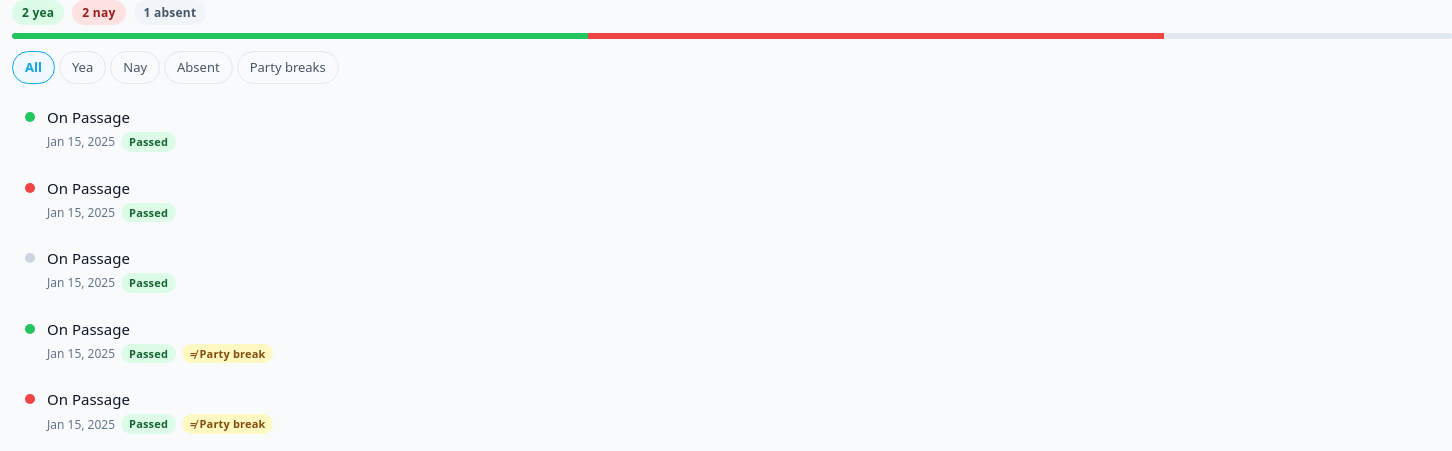
Test: VoteList — filter logic › shows only nay votes when the "Nay" filter is active
Click the tab "Nay" at {"x": 135, "y": 68}, box [110,51,160,84]
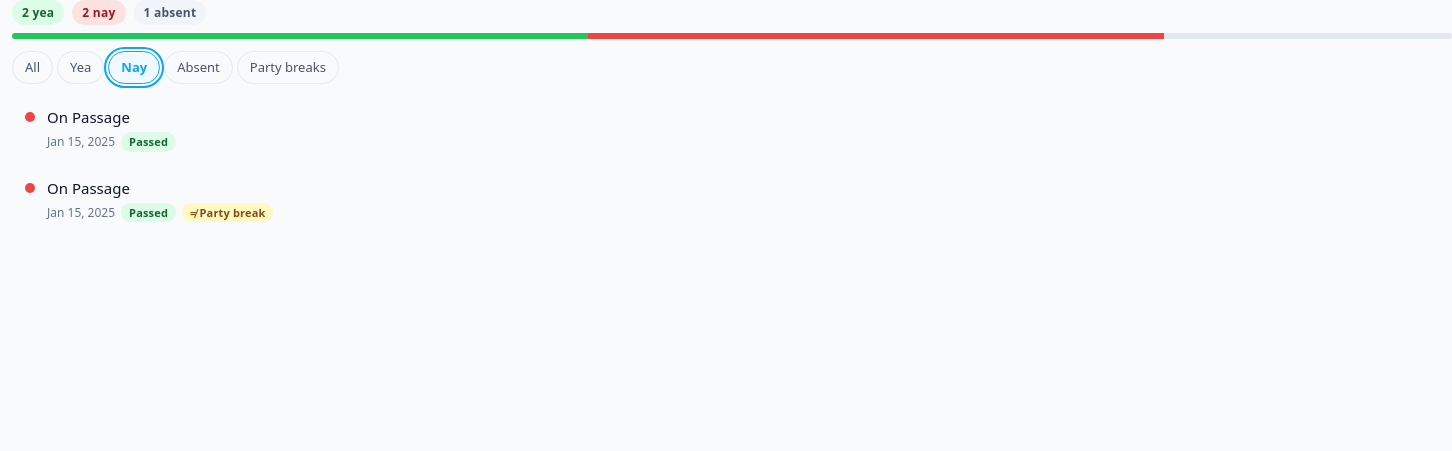
Now the number of list items is 2, box [25,107,176,152]; [25,178,274,222]
